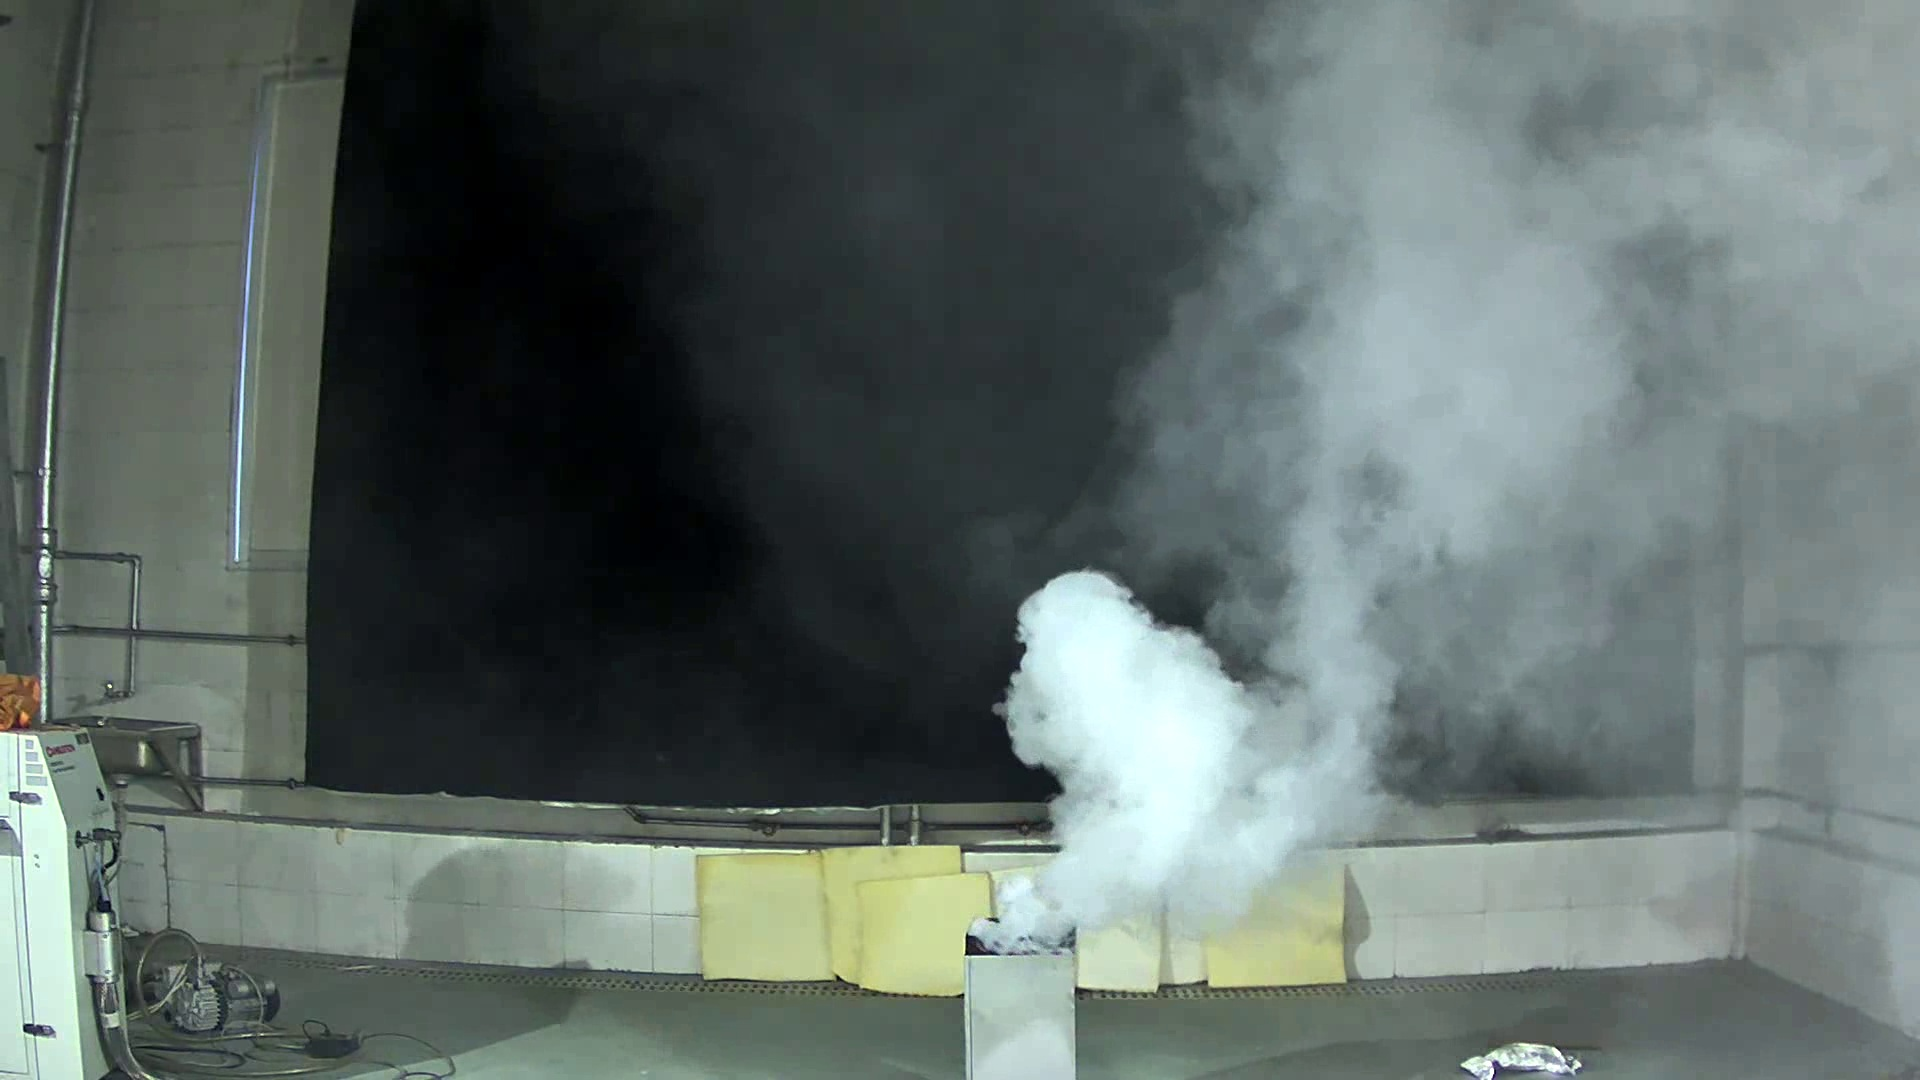smoke: (952, 559, 1386, 959)
